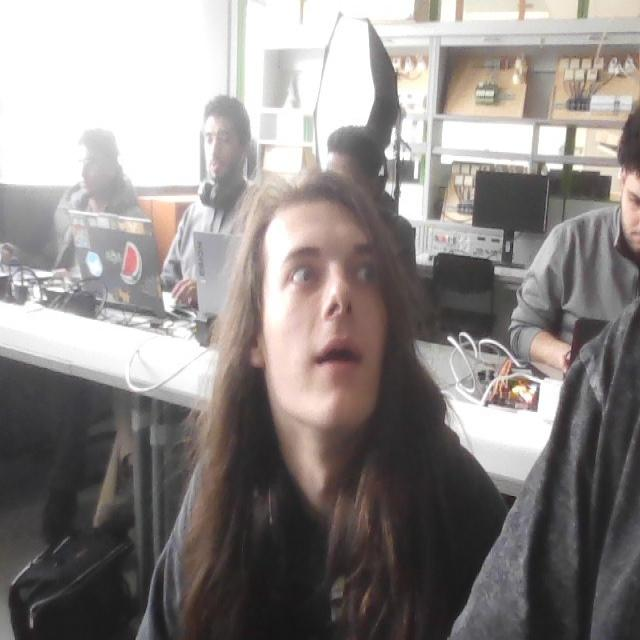opened_eye: (288, 263, 322, 287), (352, 261, 380, 286)
